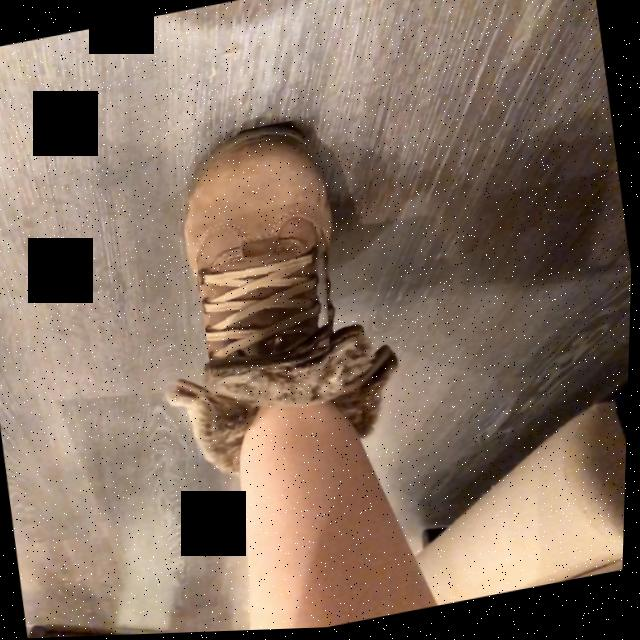shoe: (191, 126, 327, 369)
